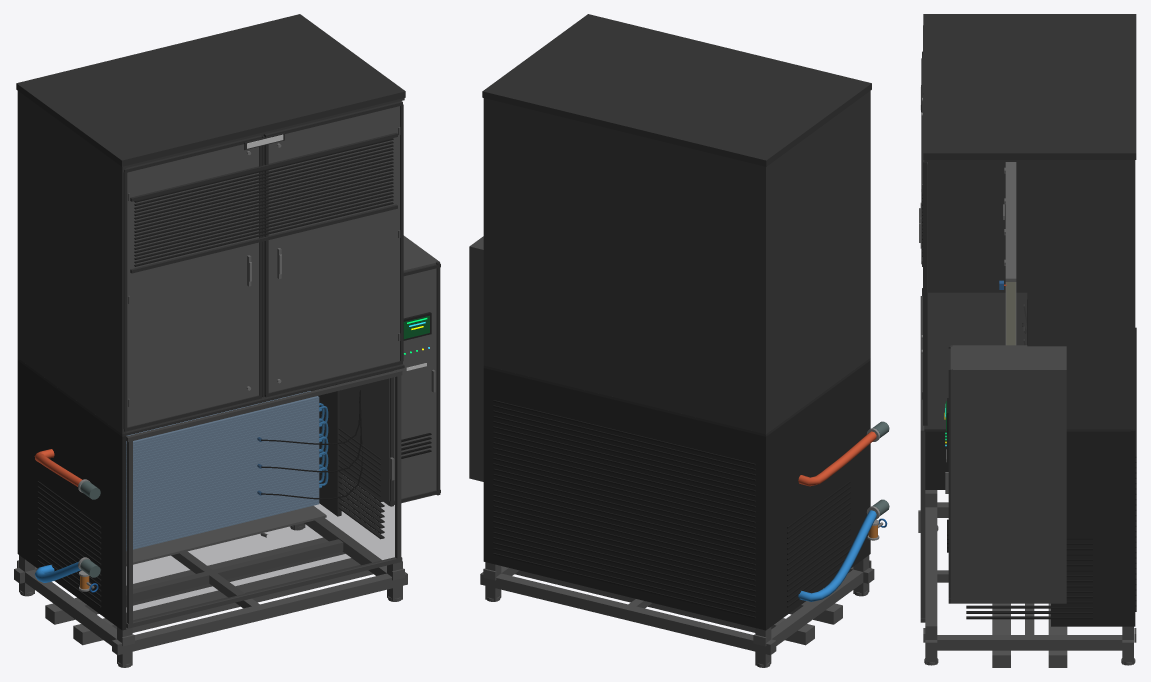
File: crah.glb
3 renders of one model, left to right at view 1: azimuth 30°, elevation 25°; view 2: azimuth 150°, elevation 25°; view 3: azimuth 270°, elevation 25°, orthographic.
Visible parts, largest first — view 1: Upper_Cabinet, Lower_Front_Panel, Upper_Panel_1, Upper_Panel_2, Lower_Mechanical, Cooling_Coils, Base_Frame, Air_Discharge_Grille, Control_Cabinet, Sensors, Upper_Front_Panels; view 2: Upper_Cabinet, Lower_Mechanical, Rear_Features, Base_Frame, Control_Cabinet, Cooling_Coils; view 3: Upper_Cabinet, Control_Cabinet, Lower_Mechanical, Base_Frame, Lower_Front_Panel, Upper_Panel_2, Filter_4, Rear_Features, Filter_2, Filter_3, Air_Discharge_Grille.
Boxes of the visible parts, box(x1,y1,x2,y2) form: Upper_Cabinet: box(16, 14, 405, 434); Lower_Front_Panel: box(126, 369, 402, 628); Upper_Panel_1: box(123, 135, 262, 431); Upper_Panel_2: box(263, 101, 403, 397); Lower_Mechanical: box(17, 359, 404, 630); Cooling_Coils: box(34, 391, 328, 582); Base_Frame: box(14, 518, 407, 667); Air_Discharge_Grille: box(130, 132, 397, 273); Control_Cabinet: box(339, 235, 440, 506); Sensors: box(257, 390, 362, 499); Upper_Front_Panels: box(262, 136, 264, 397); Upper_Cabinet: box(482, 14, 871, 434); Lower_Mechanical: box(483, 358, 870, 630); Rear_Features: box(493, 400, 755, 618); Base_Frame: box(480, 555, 874, 667); Control_Cabinet: box(469, 236, 483, 481); Cooling_Coils: box(798, 421, 889, 601); Upper_Cabinet: box(920, 14, 1136, 430); Control_Cabinet: box(944, 345, 1066, 603); Lower_Mechanical: box(924, 292, 1135, 626); Base_Frame: box(923, 490, 1136, 667); Lower_Front_Panel: box(918, 296, 925, 622); Upper_Panel_2: box(919, 95, 927, 425); Filter_4: box(1004, 248, 1016, 345); Rear_Features: box(1135, 327, 1136, 611); Filter_2: box(1004, 186, 1016, 311); Filter_3: box(1004, 217, 1016, 342); Air_Discharge_Grille: box(921, 58, 922, 264).
Bounding box in the file's own units: 1.77 × 2.41 × 0.9305.
